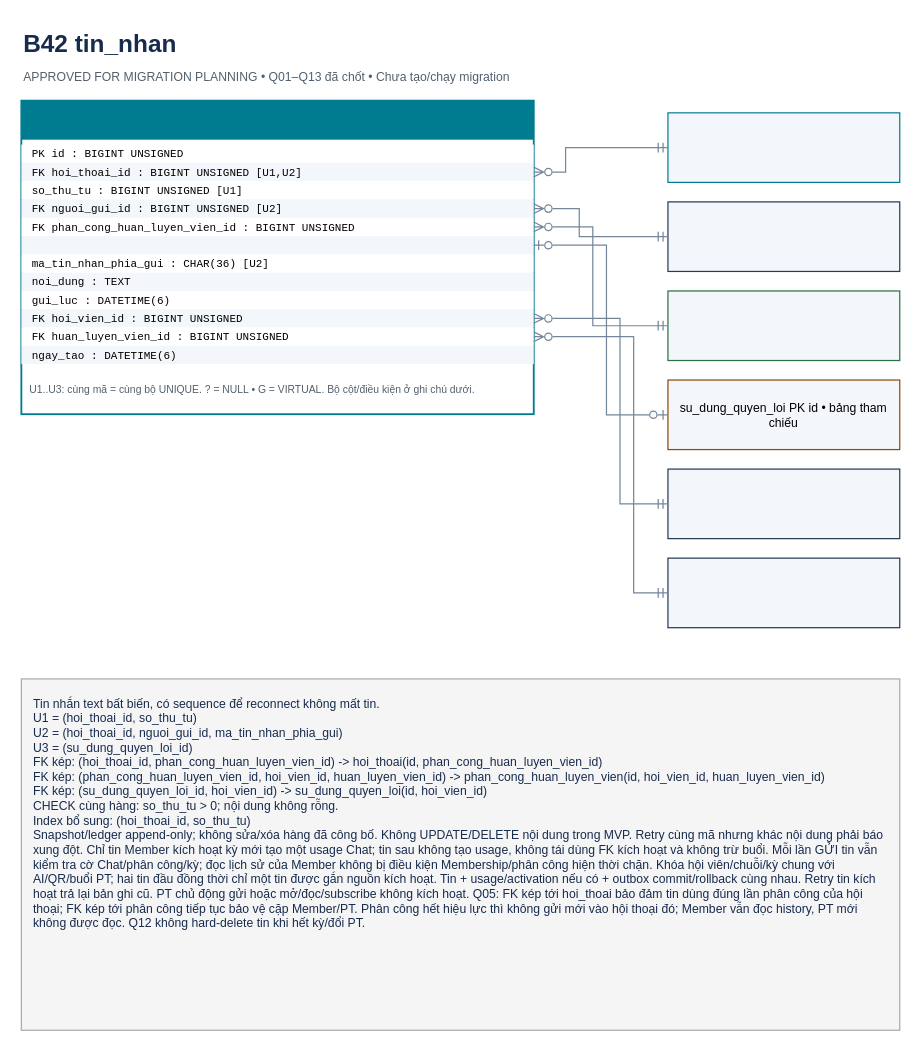
Some shapes in this 922 by 1052 pixel diagram are drawn without their labels. The centre of each missing label's shape, as x and y in pixels:
FK su_dung_quyen_loi_id : BIGINT UNSIGNED ? [U3]: point (277, 244)
ho_so_hoi_vien PK id • bảng tham chiếu: point (783, 503)
ho_so_huan_luyen_vien PK id • bảng tham chiếu: point (783, 592)
hoi_thoai PK id • bảng tham chiếu: point (783, 147)
nguoi_dung PK id • bảng tham chiếu: point (783, 236)
phan_cong_huan_luyen_vien PK id • bảng tham chiếu: point (783, 325)
tin_nhan: point (277, 119)
